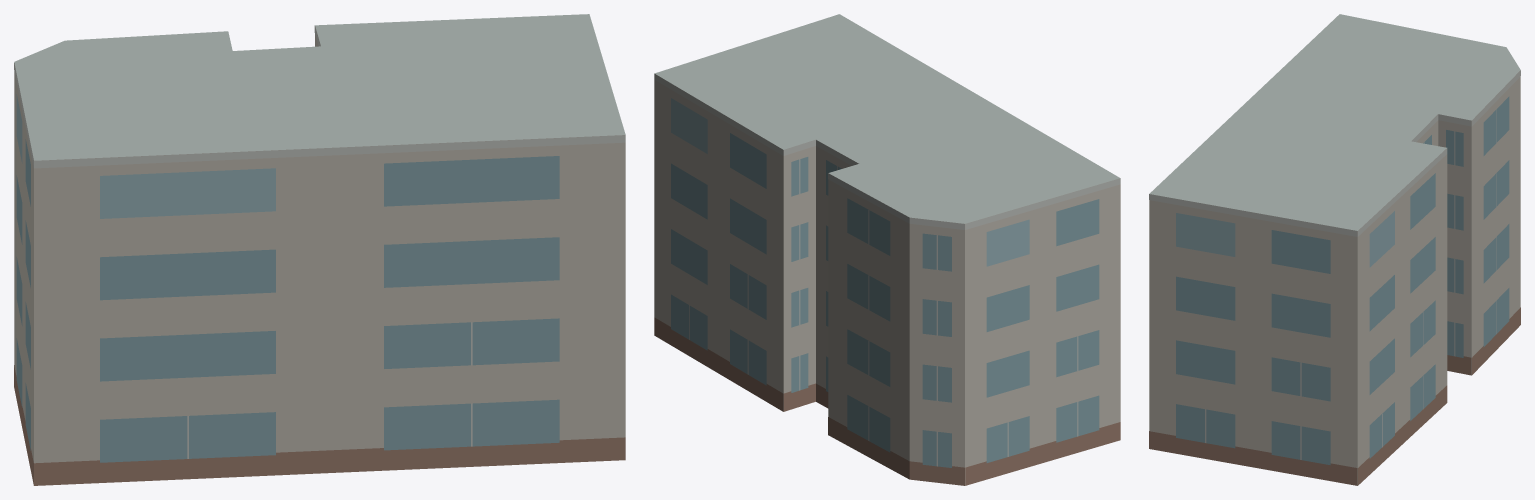
File: survey-upis-32796846.glb
3 views of the same model, side by side, from view 1: azimuth 30°, elevation 25°; view 2: azimuth 150°, elevation 25°; view 3: azimuth 270°, elevation 25° (orthographic). The views are drawn at different scales.
Parts seen in each view (by area): view 1: survey-upis-32796846.tmp; view 2: survey-upis-32796846.tmp; view 3: survey-upis-32796846.tmp.
Boxes of the visible parts, box(x1,y1,x2,y2) form: survey-upis-32796846.tmp: box(14, 14, 625, 485); survey-upis-32796846.tmp: box(654, 14, 1120, 485); survey-upis-32796846.tmp: box(1149, 14, 1520, 485).
Size of the model in its own units: 18.81 by 10.3 by 13.62.
